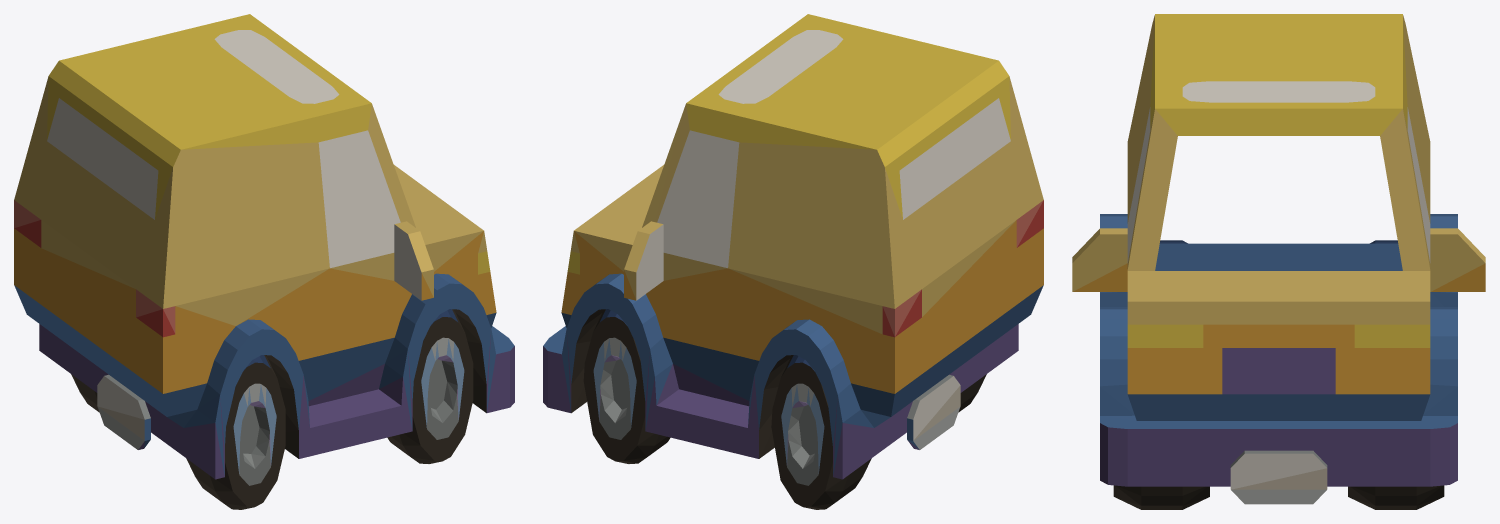
The model's file is suv-luxury.glb.
The picture shows the model from 3 angles, left to right: view 1: azimuth 30°, elevation 25°; view 2: azimuth 150°, elevation 25°; view 3: azimuth 270°, elevation 25°; orthographic projection.
Size of the model in its own units: 1 by 1 by 1.
